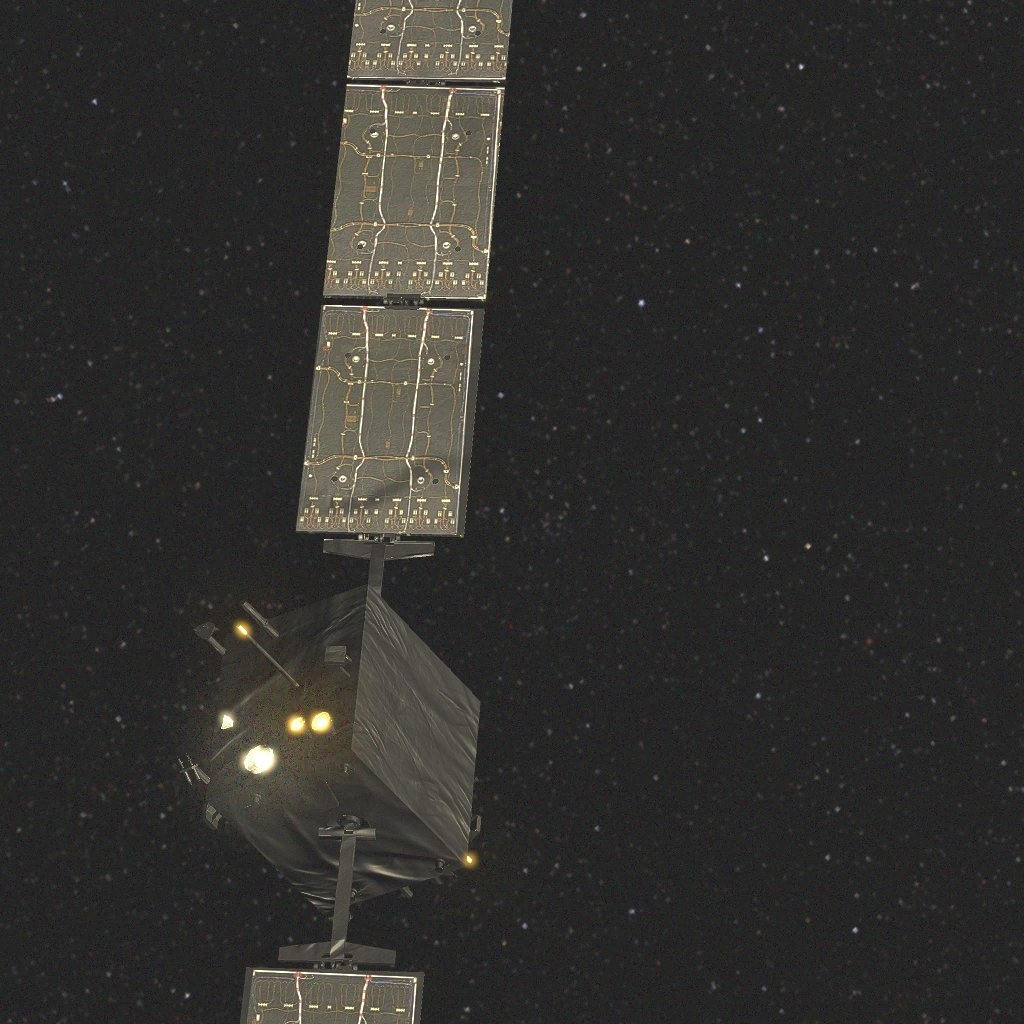smart_1: (191, 25, 537, 1004)
